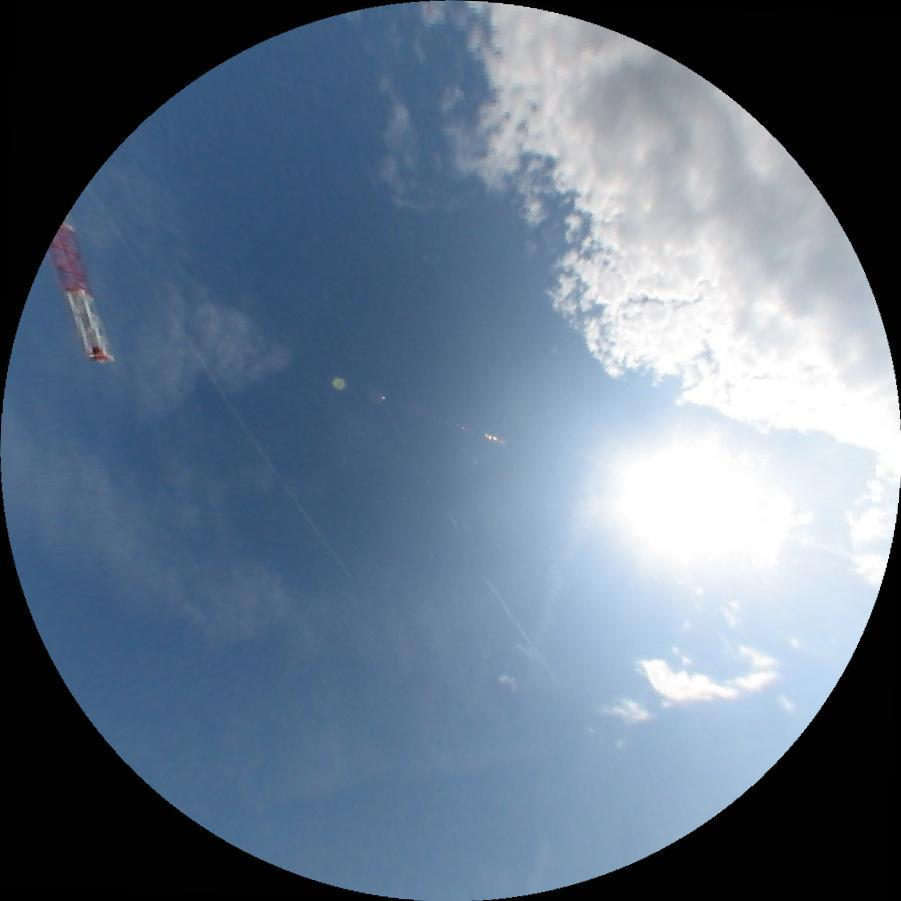contrail old: (485, 579, 560, 684)
contrail young: (82, 184, 352, 579)
sun: (613, 433, 796, 567)
